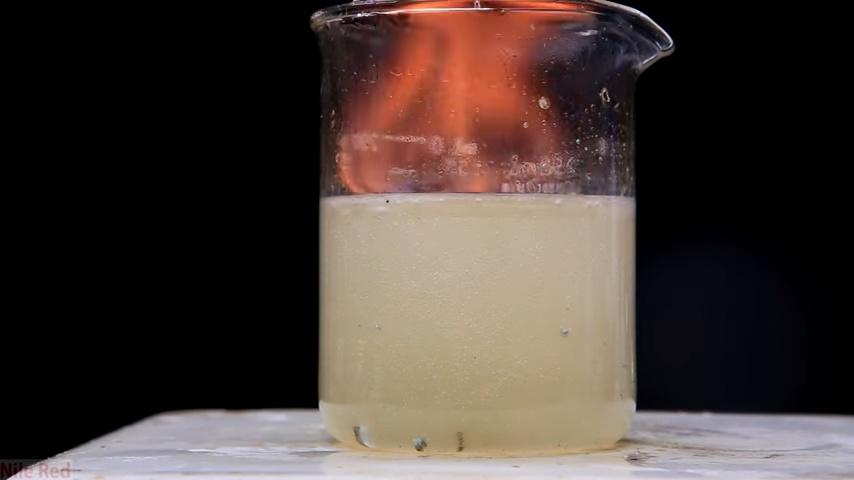Beaker: (299, 15, 678, 454)
